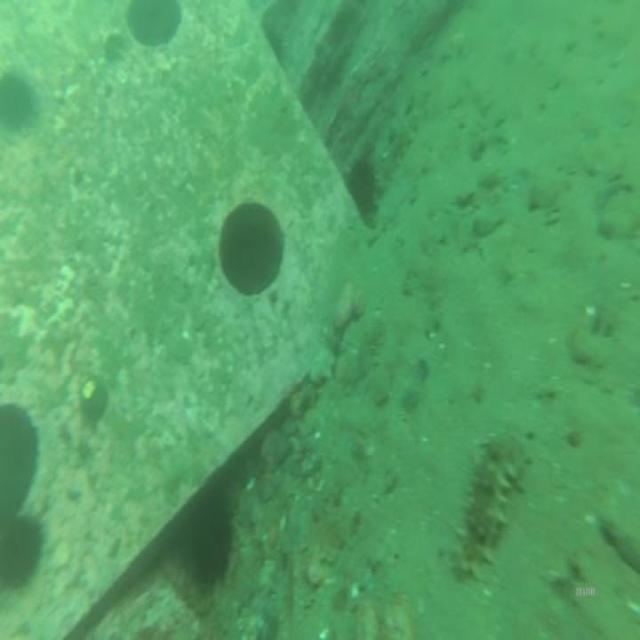echinus: (176, 482, 241, 604), (1, 506, 44, 591), (341, 150, 383, 228)
holothurian: (460, 425, 524, 586)
